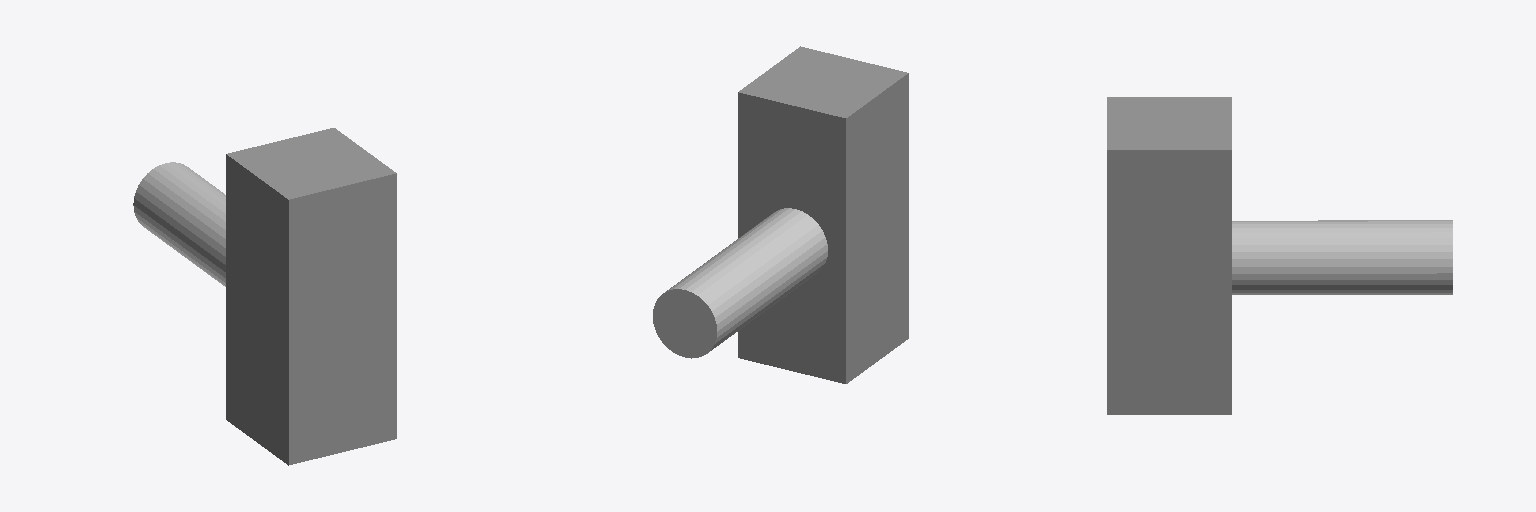
Rendered from buratino.obj.
3 views of the same model, side by side, from view 1: azimuth 30°, elevation 25°; view 2: azimuth 150°, elevation 25°; view 3: azimuth 270°, elevation 25° (orthographic).
Visible parts, largest first — view 1: Cube, Cylinder_s; view 2: Cube, Cylinder_s; view 3: Cube, Cylinder_s.
Boxes of the visible parts, box(x1,y1,x2,y2) form: Cube: box(226, 128, 396, 465); Cylinder_s: box(133, 162, 225, 286); Cube: box(738, 46, 908, 383); Cylinder_s: box(653, 208, 827, 358); Cube: box(1107, 97, 1231, 414); Cylinder_s: box(1232, 220, 1452, 294).
Size of the model in its own units: 1.43 by 3.34 by 3.95.